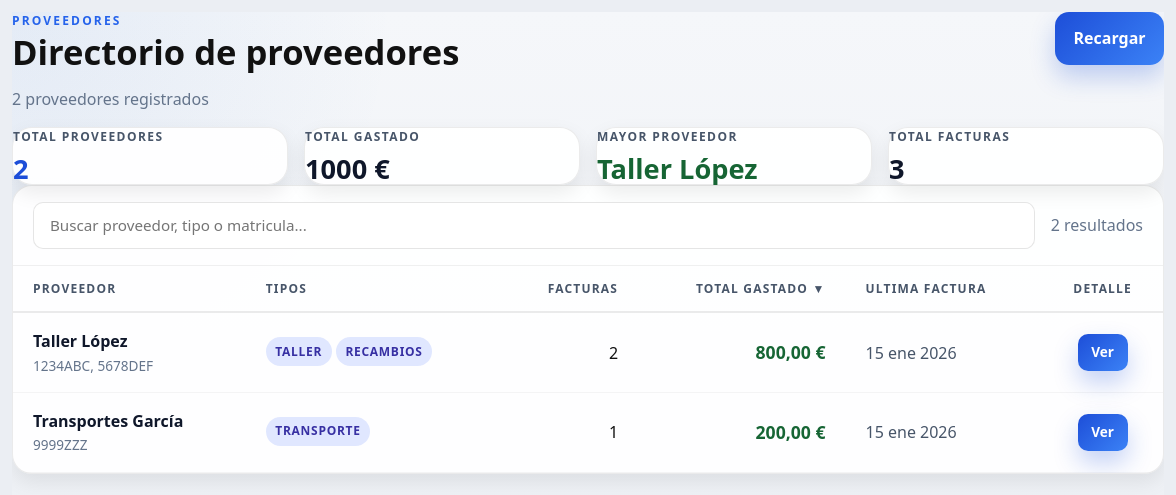
it: SuppliersView › shows detail view when clicking Ver
The width and height of the screenshot is (1176, 495).
Click the button "Ver" in the row of "1234ABC, 5678DEF": (1103, 353) [1078, 334, 1128, 371]
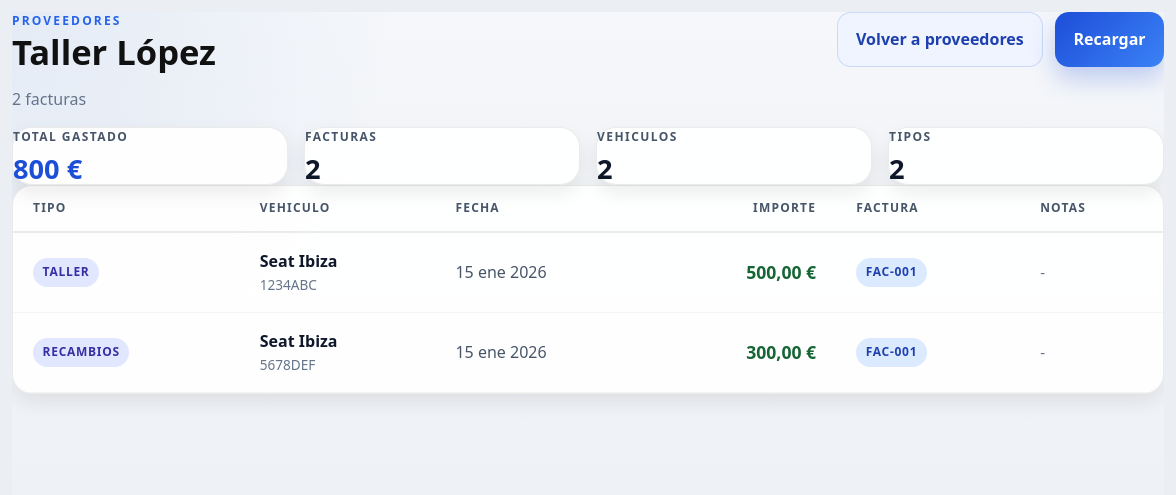
Check: the button "Volver a proveedores" is shown, box [837, 12, 1043, 67]
